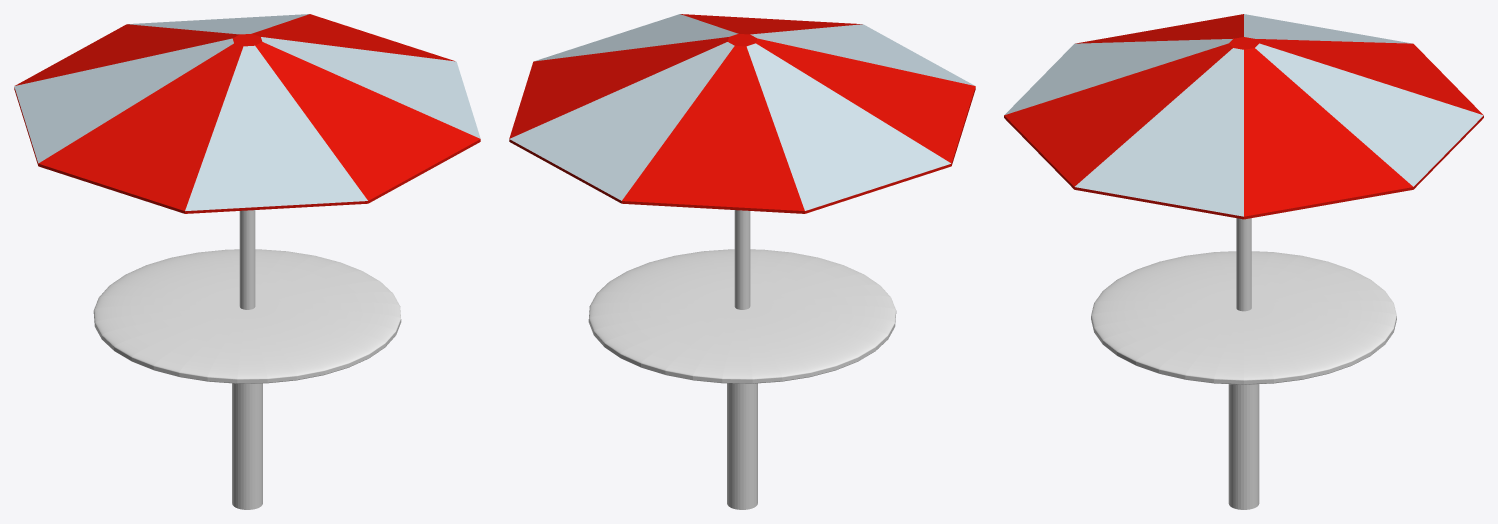
Rendered from Umbrella.fbx.
3 renders of one model, left to right at view 1: azimuth 30°, elevation 25°; view 2: azimuth 150°, elevation 25°; view 3: azimuth 270°, elevation 25°, orthographic.
Parts seen in each view (by area): view 1: Cylinder.001, Cylinder.002, Cylinder, Cylinder.003; view 2: Cylinder.001, Cylinder.002, Cylinder, Cylinder.003; view 3: Cylinder.001, Cylinder.002, Cylinder, Cylinder.003.
Boxes of the visible parts, left/top/right/bottom form: Cylinder.001: left=14, top=14, right=480, bottom=213; Cylinder.002: left=93, top=249, right=401, bottom=383; Cylinder: left=232, top=383, right=262, bottom=509; Cylinder.003: left=239, top=210, right=255, bottom=309; Cylinder.001: left=509, top=14, right=975, bottom=213; Cylinder.002: left=588, top=249, right=896, bottom=383; Cylinder: left=727, top=383, right=757, bottom=509; Cylinder.003: left=734, top=210, right=750, bottom=309; Cylinder.001: left=1004, top=14, right=1483, bottom=219; Cylinder.002: left=1091, top=251, right=1396, bottom=384; Cylinder: left=1228, top=384, right=1259, bottom=509; Cylinder.003: left=1236, top=218, right=1251, bottom=311.
Bounding box in the file's own units: 314 × 332 × 314.
